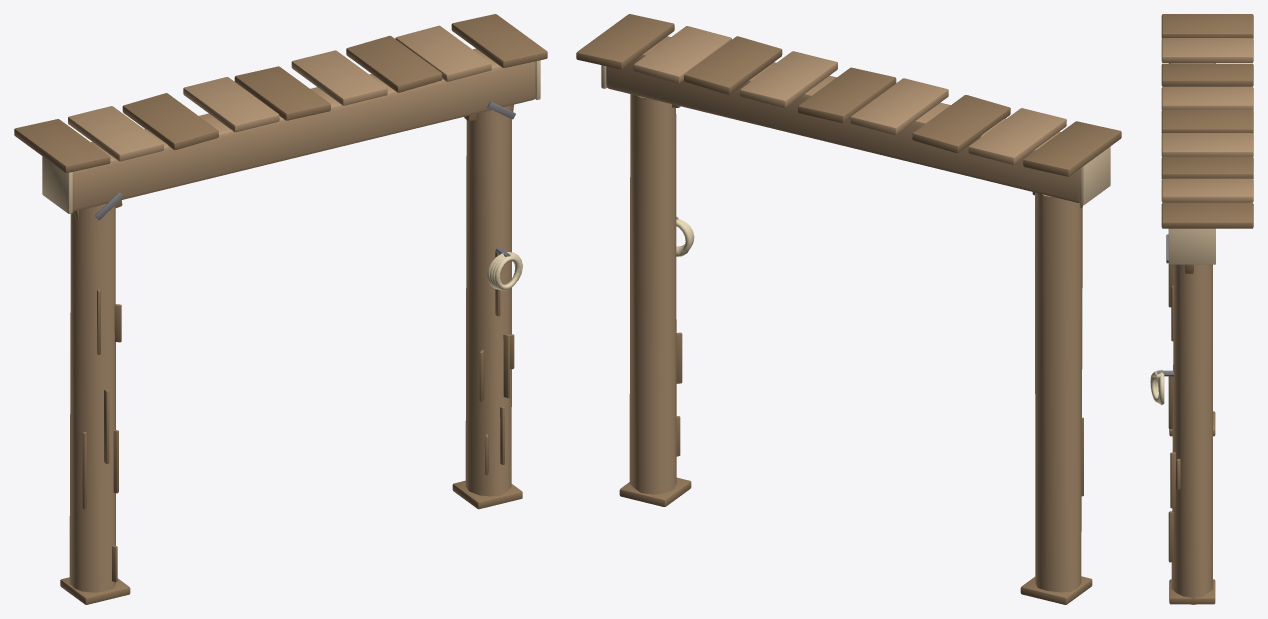
Rendered from bg_timber_frame.glb.
3 views of the same model, side by side, from view 1: azimuth 30°, elevation 25°; view 2: azimuth 150°, elevation 25°; view 3: azimuth 270°, elevation 25° (orthographic). The views are drawn at different scales.
Visible parts, largest first — view 1: bg_timber_frame; view 2: bg_timber_frame; view 3: bg_timber_frame.
Boxes of the visible parts, <box> form: bg_timber_frame: <box>14,14,547,604</box>; bg_timber_frame: <box>576,14,1121,604</box>; bg_timber_frame: <box>1150,14,1253,604</box>.
Size of the model in its own units: 3.2 by 2.85 by 0.674.
